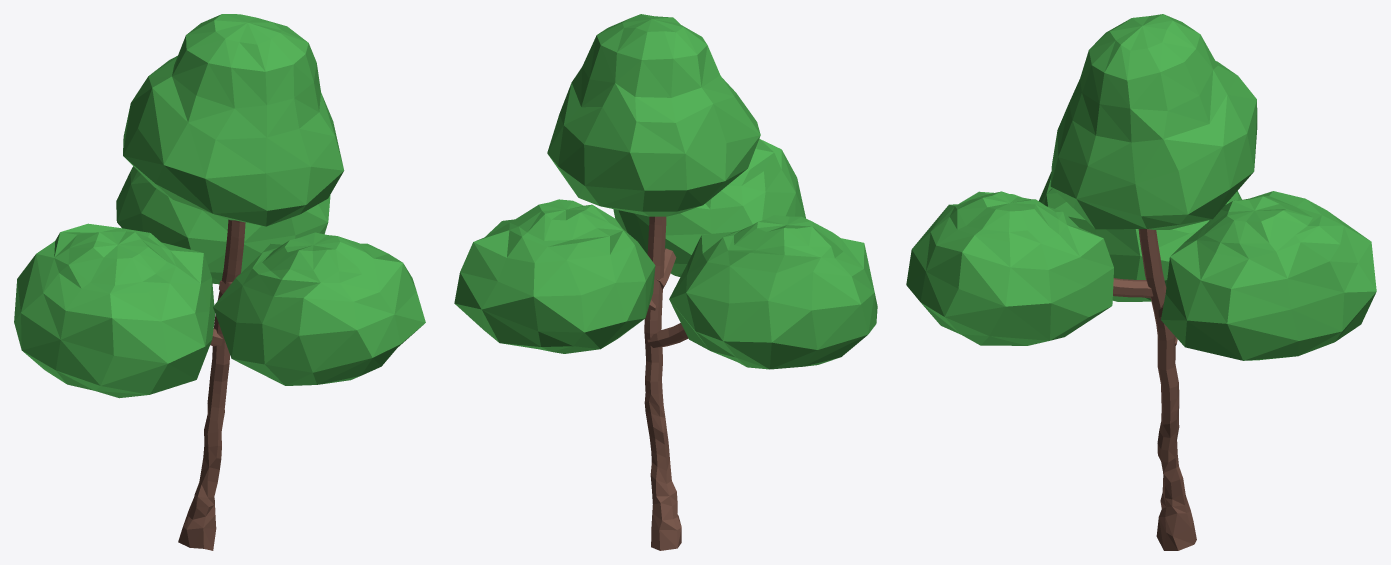
3 renders of one model, left to right at view 1: azimuth 30°, elevation 25°; view 2: azimuth 150°, elevation 25°; view 3: azimuth 270°, elevation 25°, orthographic. The views are drawn at different scales.
Parts seen in each view (by area): view 1: mesh_1601291986, mesh_1062400359, mesh_238670649, mesh_184443300, mesh_137612327, mesh_1683184049; view 2: mesh_1601291986, mesh_1062400359, mesh_184443300, mesh_238670649, mesh_137612327, mesh_1683184049, mesh_1973233719; view 3: mesh_1601291986, mesh_184443300, mesh_238670649, mesh_137612327, mesh_1062400359, mesh_1683184049, mesh_343675321.
Boxes of the visible parts, left/top/right/bottom form: mesh_1601291986: left=123, top=14, right=344, bottom=226; mesh_1062400359: left=14, top=223, right=214, bottom=398; mesh_238670649: left=213, top=232, right=425, bottom=385; mesh_184443300: left=116, top=166, right=330, bottom=284; mesh_137612327: left=178, top=333, right=229, bottom=550; mesh_1683184049: left=214, top=219, right=245, bottom=334; mesh_1601291986: left=547, top=14, right=760, bottom=216; mesh_1062400359: left=669, top=215, right=877, bottom=369; mesh_184443300: left=454, top=199, right=655, bottom=353; mesh_238670649: left=613, top=139, right=805, bottom=277; mesh_137612327: left=644, top=332, right=681, bottom=550; mesh_1683184049: left=644, top=216, right=666, bottom=333; mesh_1973233719: left=647, top=323, right=688, bottom=347; mesh_1601291986: left=1050, top=14, right=1257, bottom=229; mesh_184443300: left=1161, top=191, right=1376, bottom=360; mesh_238670649: left=906, top=191, right=1113, bottom=345; mesh_137612327: left=1156, top=336, right=1196, bottom=550; mesh_1062400359: left=1039, top=172, right=1241, bottom=301; mesh_1683184049: left=1138, top=229, right=1174, bottom=340; mesh_343675321: left=1113, top=278, right=1153, bottom=298.
Size of the model in its own units: 44.13 by 63.89 by 50.7.
